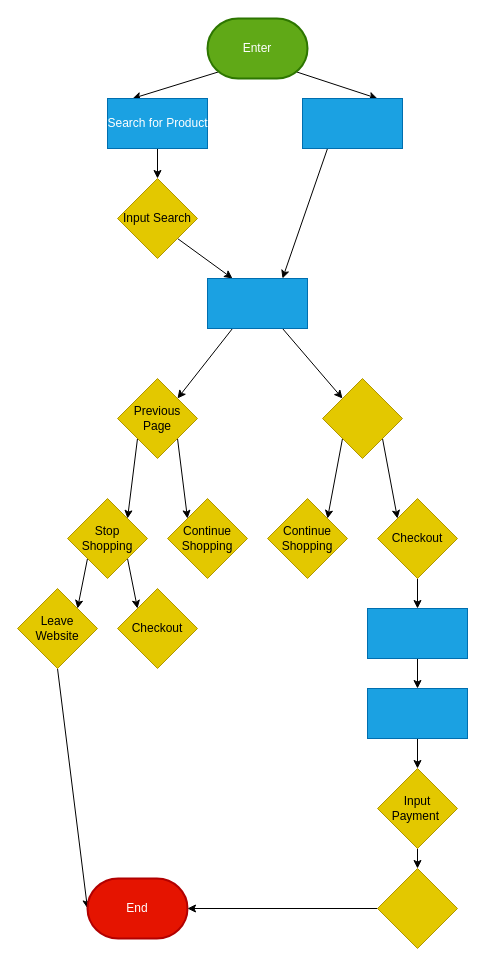
Some shapes in this 485 by 966 pixel diagram are drawn without their labels. Here are the shapes that lost their labels. From the top down, the centre of each, then its label:
At [352,123]: "Explore Products".
At [257,303]: "View Product".
At [362,418]: "Add to Cart".
At [417,633]: "View Cart".
At [417,713]: "View Payment".
At [417,908]: "Order Confirmation".
